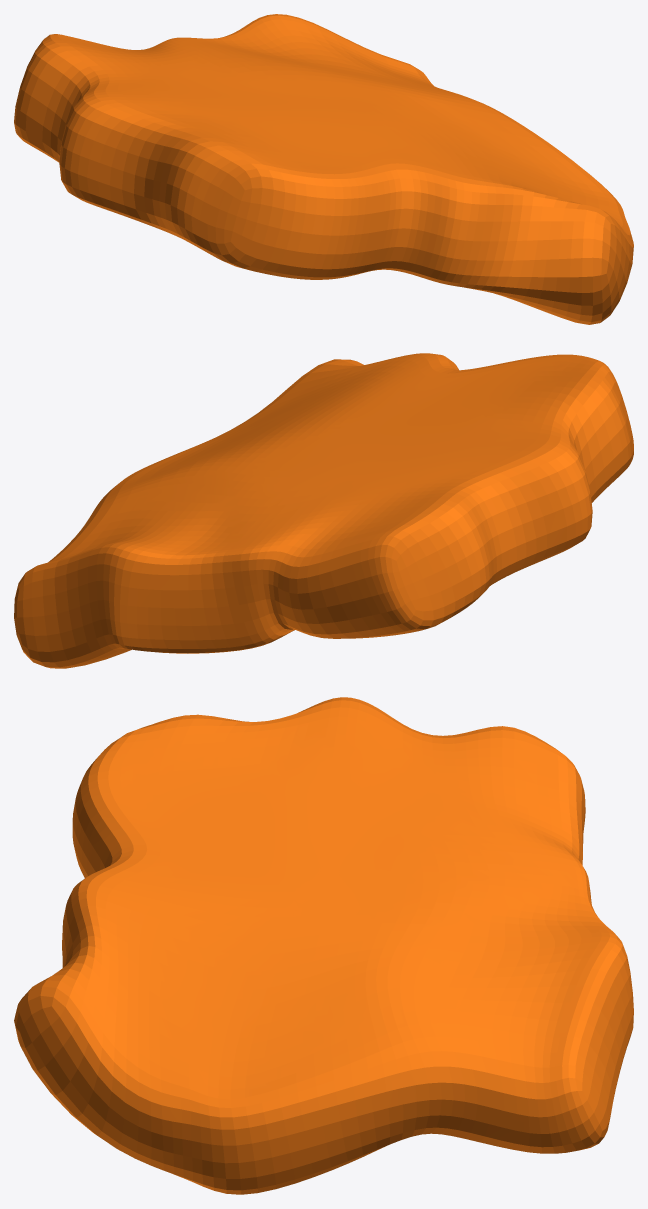
Rendered from ChiliPoured.fbx.
3 views of the same model, one above another, from view 1: azimuth 30°, elevation 25°; view 2: azimuth 150°, elevation 25°; view 3: azimuth 270°, elevation 25° (orthographic). The views are drawn at different scales.
Parts seen in each view (by area): view 1: TomatoPoured; view 2: TomatoPoured; view 3: TomatoPoured.
Part boxes in pixels (x1,y1,x2,y2): TomatoPoured: (14, 14, 633, 324); TomatoPoured: (14, 353, 633, 668); TomatoPoured: (14, 697, 633, 1194).
Bounding box in the file's own units: 262 × 130 × 268.
